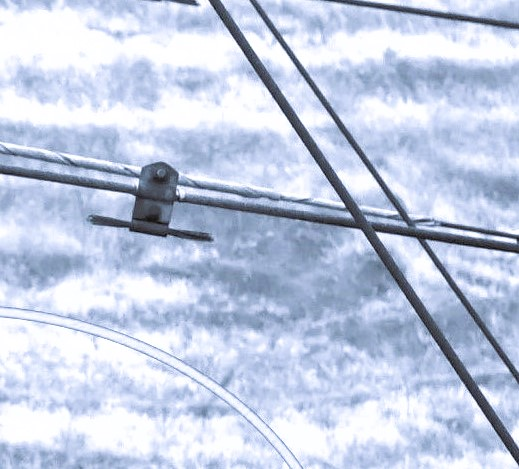Damage of shockproof hammer: (77, 154, 223, 250)
